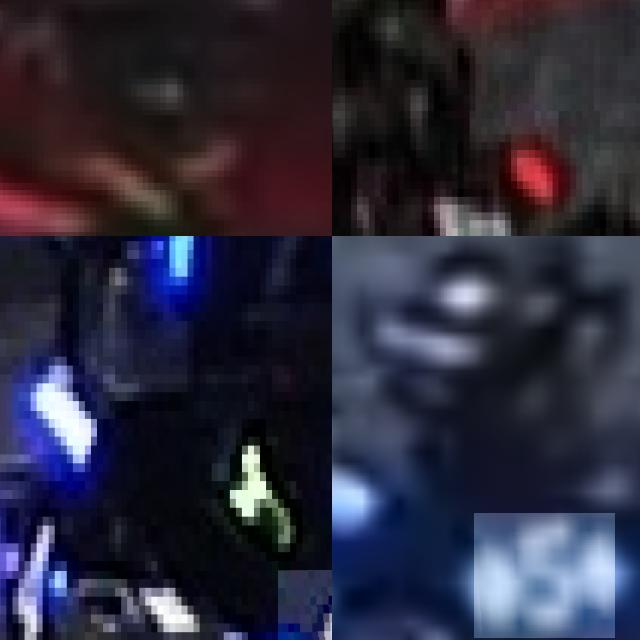B4: (0, 499, 90, 640)
B5: (474, 513, 615, 638)
